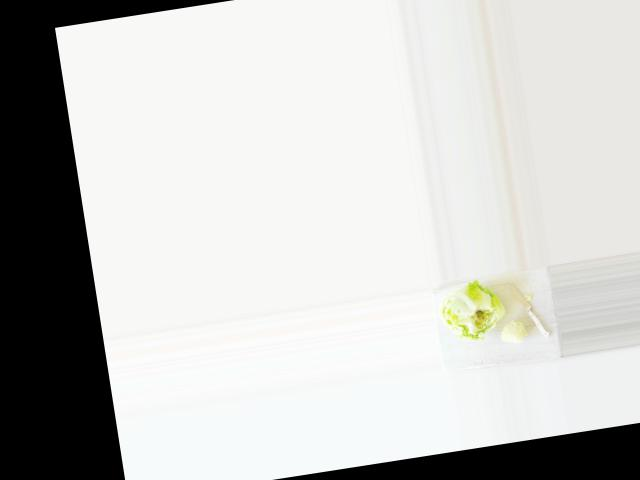lettuce: (432, 280, 502, 345)
